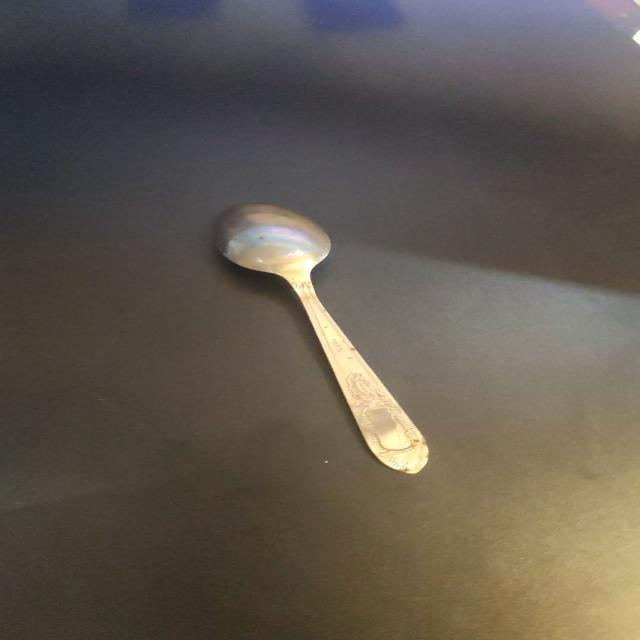plastic utensil: (220, 204, 429, 472)
